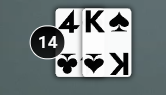4: (54, 7, 83, 36)
k: (82, 8, 107, 36)
